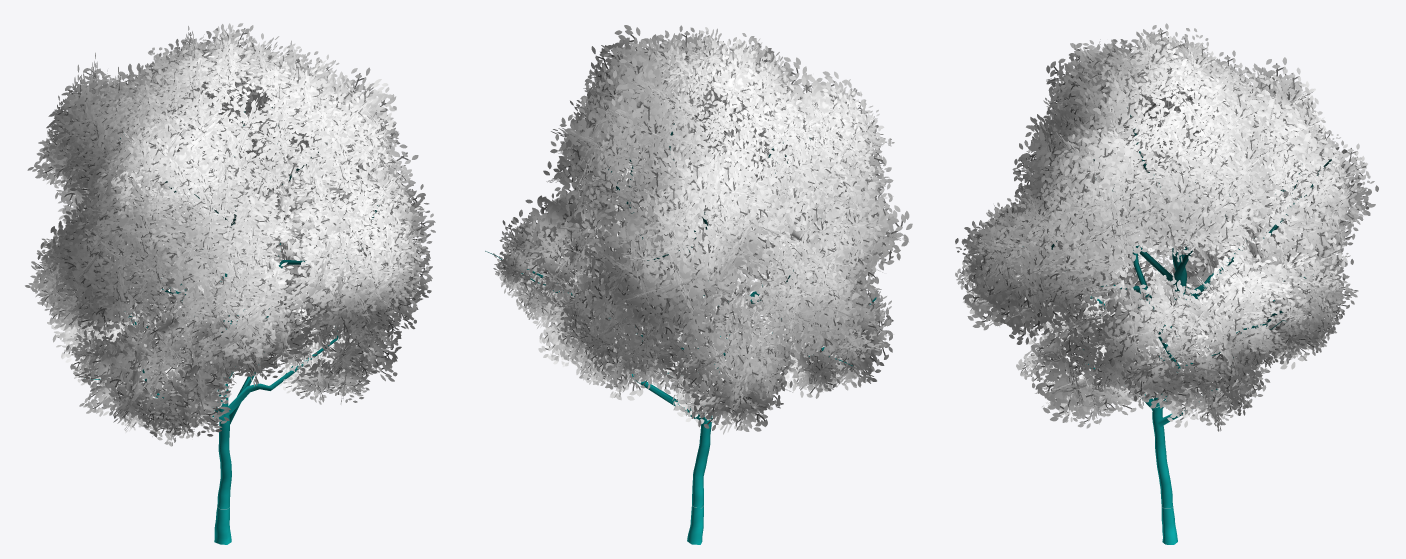
The model's file is HuralyaBirch2Separated.fbx.
3 renders of one model, left to right at view 1: azimuth 30°, elevation 25°; view 2: azimuth 150°, elevation 25°; view 3: azimuth 270°, elevation 25°, orthographic. The views are drawn at different scales.
Parts seen in each view (by area): view 1: BarkAndLeaves, Stump; view 2: BarkAndLeaves, Stump; view 3: BarkAndLeaves.
Part boxes in pixels (<box>): BarkAndLeaves: <box>25,23,435,509</box>; Stump: <box>214,507,231,544</box>; BarkAndLeaves: <box>485,25,912,507</box>; Stump: <box>687,506,703,544</box>; BarkAndLeaves: <box>955,23,1378,508</box>.
Size of the model in its own units: 878 by 1124 by 892.
